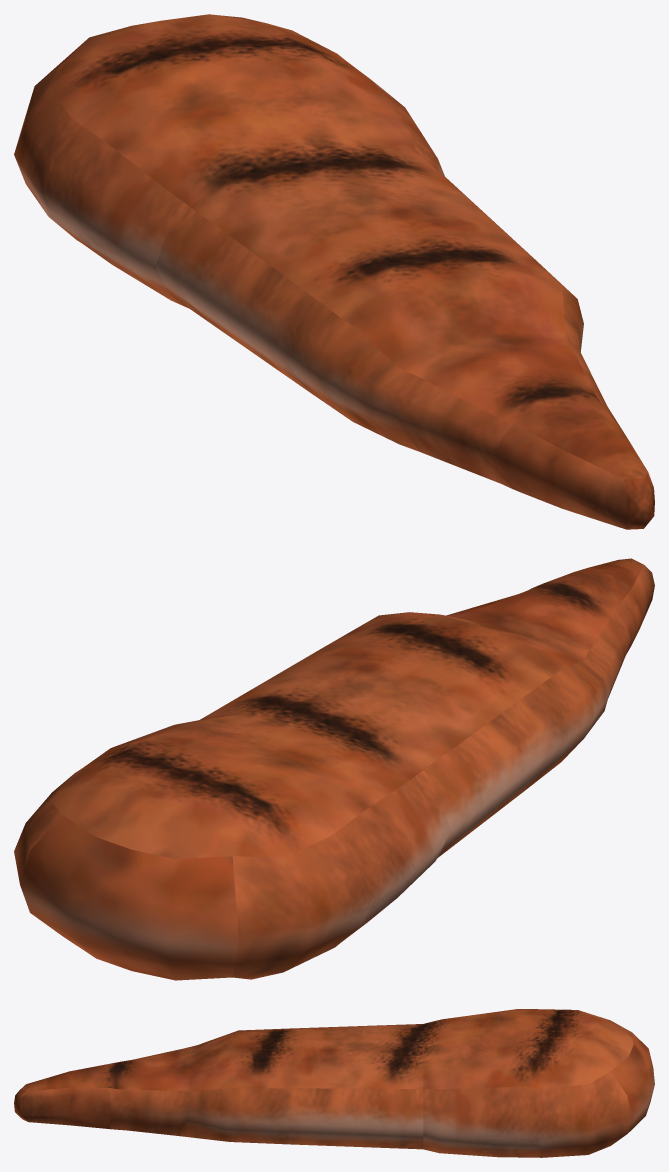
Rendered from chicken_breast_complete.fbx.
3 renders of one model, top to bottom at view 1: azimuth 30°, elevation 25°; view 2: azimuth 150°, elevation 25°; view 3: azimuth 270°, elevation 25°, orthographic. The views are drawn at different scales.
Visible parts, largest first — view 1: chicken_breast_07; view 2: chicken_breast_07; view 3: chicken_breast_07.
Boxes of the visible parts, bbox=[...] form: chicken_breast_07: bbox=[14, 14, 654, 529]; chicken_breast_07: bbox=[14, 558, 654, 980]; chicken_breast_07: bbox=[14, 1009, 654, 1157].
Size of the model in its own units: 6.38 by 3.2 by 17.51.
